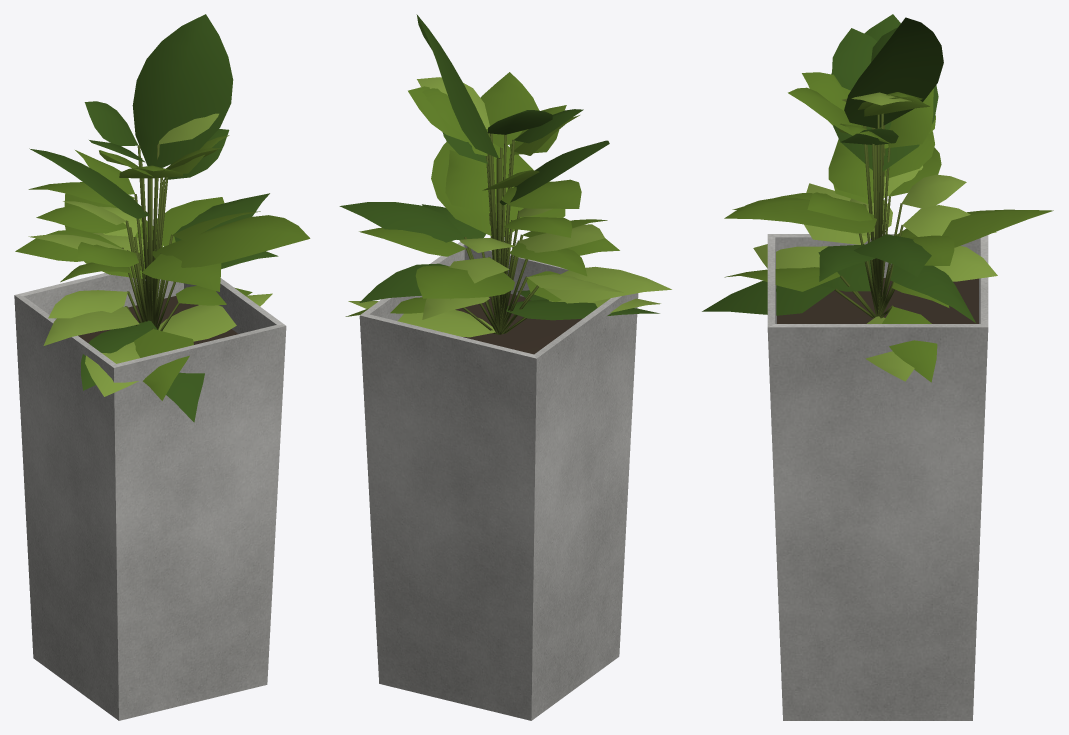
Rendered from greenery.tall-planter.glb.
3 views of the same model, side by side, from view 1: azimuth 30°, elevation 25°; view 2: azimuth 150°, elevation 25°; view 3: azimuth 270°, elevation 25° (orthographic). The views are drawn at different scales.
Parts seen in each view (by area): view 1: greenery.tall-planter.001; view 2: greenery.tall-planter.001; view 3: greenery.tall-planter.001.
Boxes of the visible parts, left/top/right/bottom form: greenery.tall-planter.001: left=14, top=14, right=310, bottom=720; greenery.tall-planter.001: left=339, top=14, right=671, bottom=720; greenery.tall-planter.001: left=702, top=14, right=1053, bottom=720.
Bounding box in the file's own units: 0.64 × 1.4 × 0.64.
Materials: 6 (1 with a texture image).
